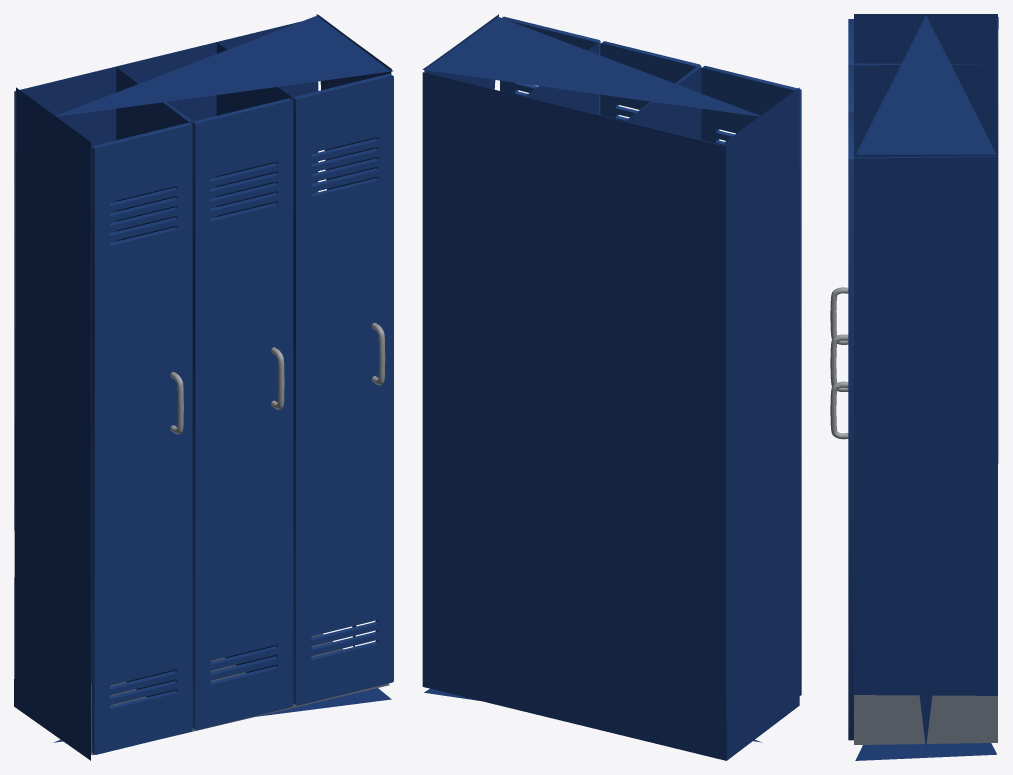
The model's file is locker.glb.
The picture shows the model from 3 angles, left to right: view 1: azimuth 30°, elevation 25°; view 2: azimuth 150°, elevation 25°; view 3: azimuth 270°, elevation 25°; orthographic projection. The views are drawn at different scales.
Parts seen in each view (by area): view 1: locker_carcass, door_middle, door_left, door_right; view 2: locker_carcass, door_left, door_middle, door_right; view 3: locker_carcass, door_right, door_left, door_middle.
Boxes of the visible parts, left/top/right/bottom form: locker_carcass: left=14, top=14, right=393, bottom=760; door_middle: left=192, top=98, right=293, bottom=730; door_left: left=91, top=122, right=192, bottom=754; door_right: left=293, top=73, right=393, bottom=705; locker_carcass: left=422, top=14, right=799, bottom=760; door_left: left=701, top=65, right=801, bottom=695; door_middle: left=600, top=41, right=701, bottom=121; door_right: left=500, top=16, right=600, bottom=114; locker_carcass: left=854, top=14, right=998, bottom=760; door_right: left=830, top=113, right=853, bottom=740; door_left: left=830, top=19, right=853, bottom=344; door_middle: left=830, top=66, right=853, bottom=391.
Size of the model in its own units: 0.9 by 1.78 by 0.4478.
